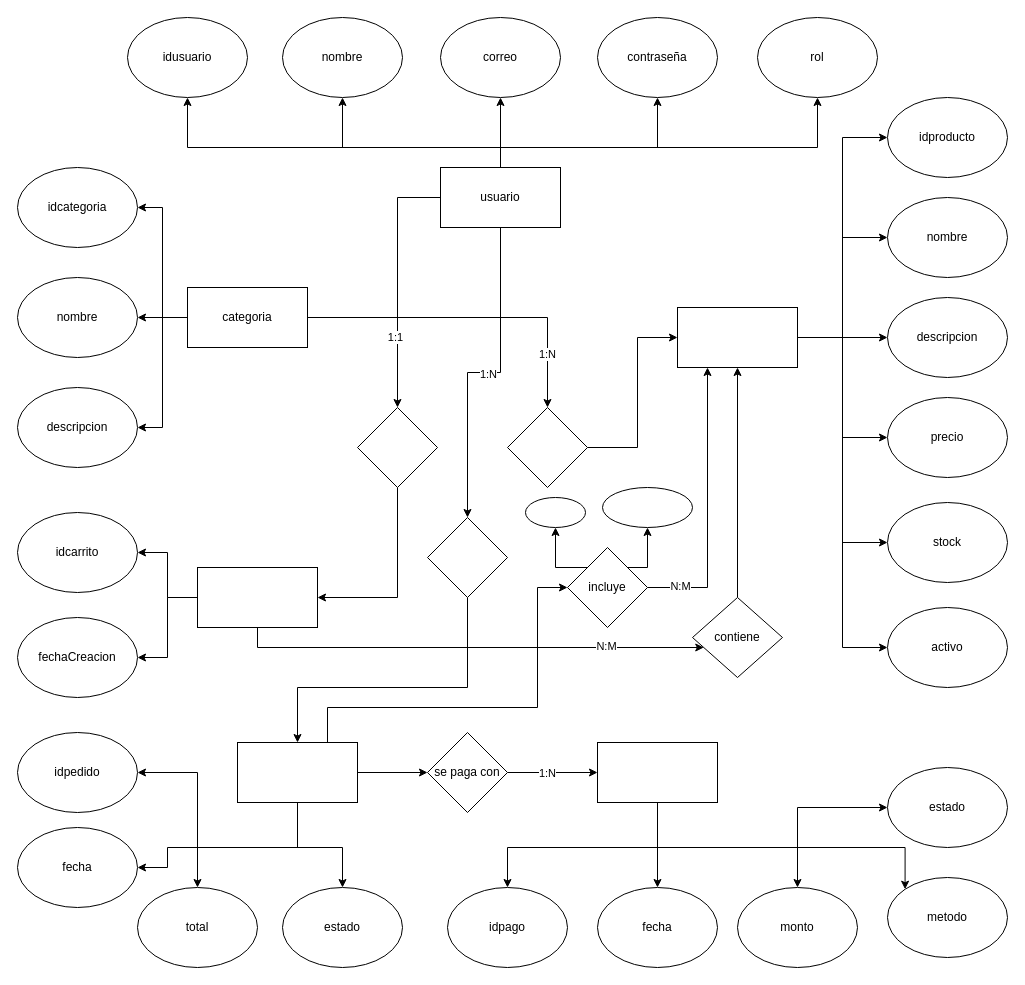
Some shapes in this 1025 by 985 pixel diagram are drawn without their labels. The box of each missing label's shape, as (x1, y1, x2, y2) in pixels:
cantidad: (524, 496, 586, 528)
carrito: (196, 566, 318, 628)
clasifica: (506, 406, 588, 488)
pago: (596, 742, 718, 802)
pedido: (236, 742, 358, 802)
posee: (356, 406, 438, 488)
precioUnitario: (602, 486, 692, 528)
producto: (676, 306, 798, 368)
realiza: (426, 516, 508, 598)
